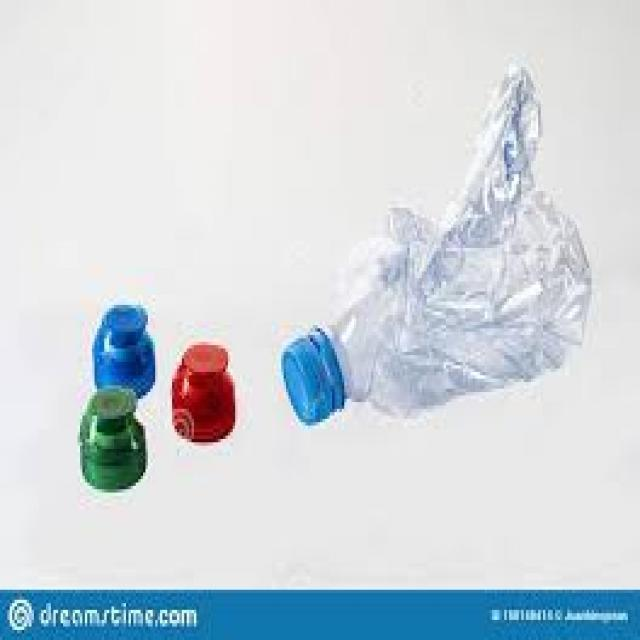Plastic: (281, 59, 598, 429), (84, 288, 160, 404), (72, 383, 154, 489), (173, 340, 243, 460)
